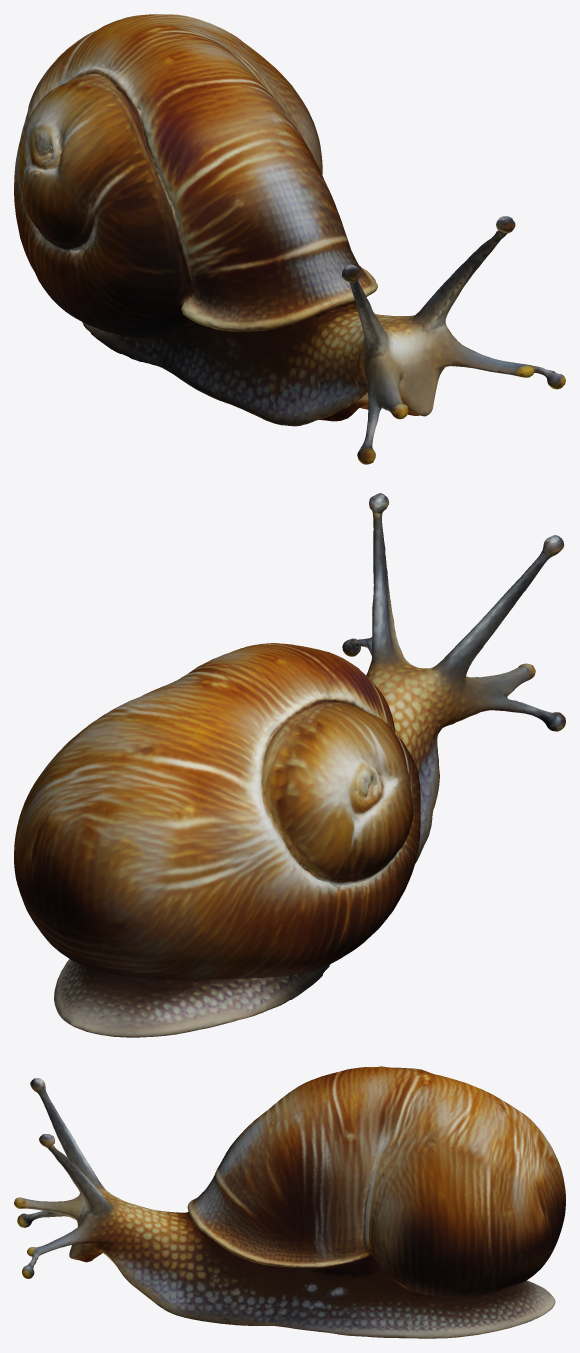
3 views of the same model, one above another, from view 1: azimuth 30°, elevation 25°; view 2: azimuth 150°, elevation 25°; view 3: azimuth 270°, elevation 25° (orthographic). The views are drawn at different scales.
Visible parts, largest first — view 1: mesh; view 2: mesh; view 3: mesh.
Part boxes in pixels (x1,y1,x2,y2): mesh: (14, 14, 565, 464); mesh: (14, 493, 565, 1037); mesh: (14, 1066, 565, 1338).
Size of the model in its own units: 0.4832 by 0.4376 by 0.9971.
Materials: 1 (1 with a texture image).
